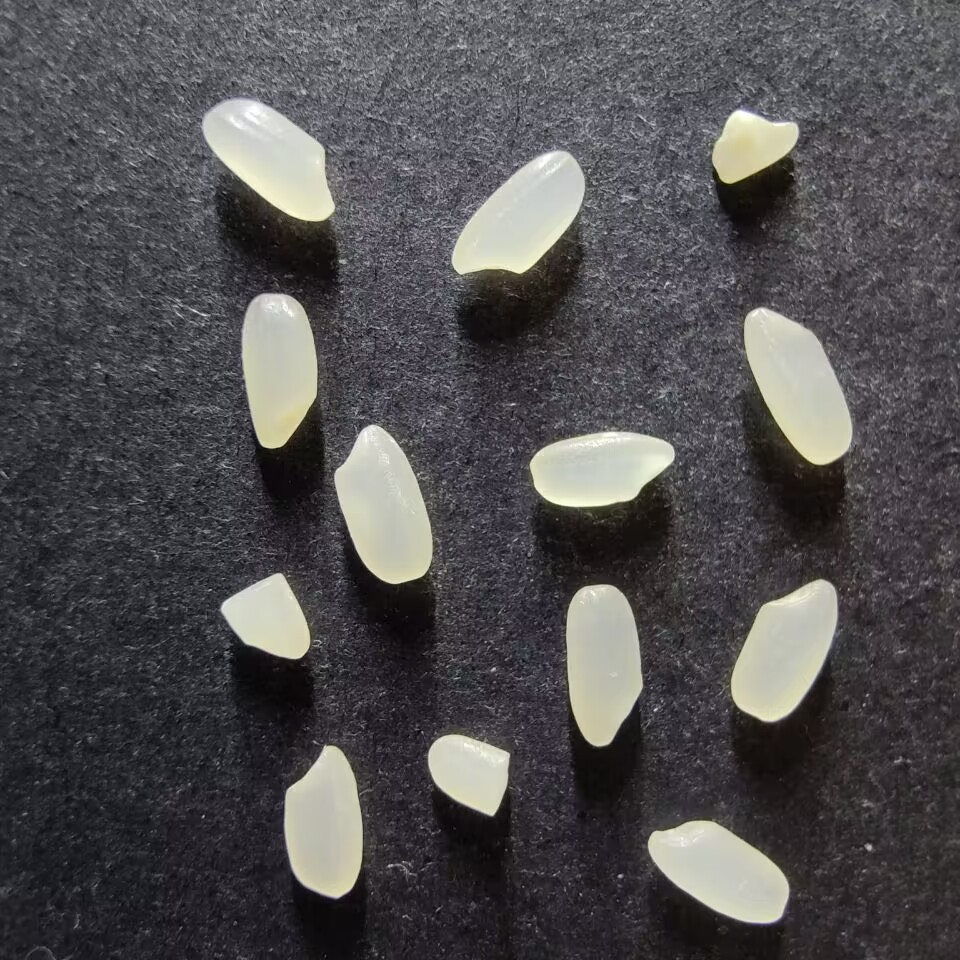broken: (218, 571, 311, 662), (425, 733, 511, 817), (709, 108, 799, 185)
rice: (742, 305, 854, 466), (449, 149, 586, 276), (199, 98, 335, 222), (331, 423, 433, 585), (728, 577, 839, 723), (645, 819, 790, 925), (563, 583, 644, 749), (281, 744, 364, 898), (239, 292, 318, 450), (527, 431, 675, 508)
